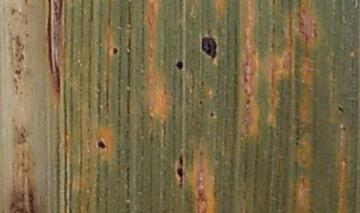tarspot: (201, 35, 217, 59), (175, 166, 183, 187), (175, 59, 185, 71), (111, 46, 120, 56), (178, 151, 184, 166), (98, 139, 106, 150), (336, 104, 345, 113), (340, 123, 347, 132), (208, 110, 215, 118), (198, 99, 205, 106), (273, 130, 280, 137)
